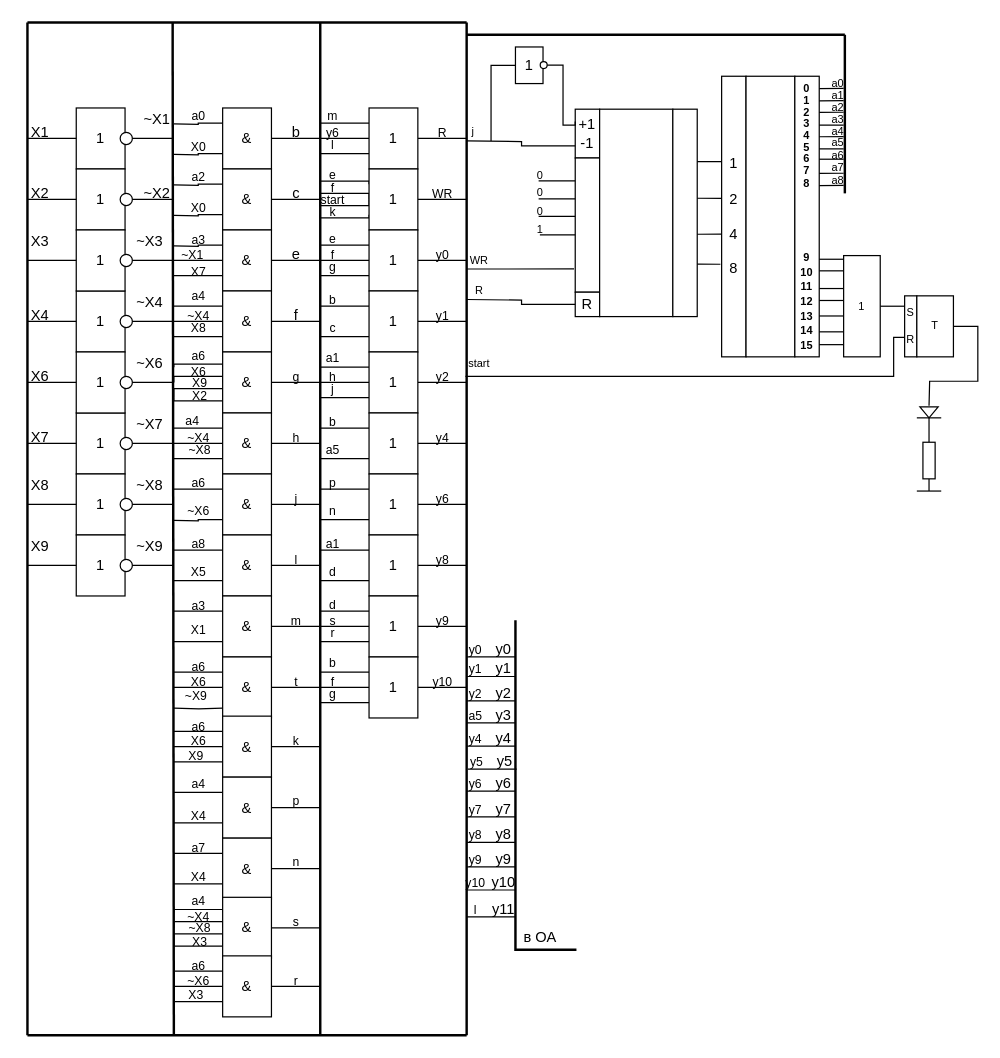
Image size: 1000x1058. Some labels were removed from this diagram. The centre of each missing label's shape, as x and y in pixels:
"CT" belongs at point 635,212.
"D0 D1 D2 D3 WR" belongs at point 587,224.
"DC" belongs at point 770,216.
"Q1 Q2 Q3 Q4" belongs at point 684,212.
